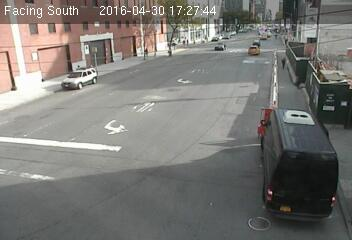neg: (81, 82, 113, 124), (215, 125, 241, 160), (247, 98, 271, 130), (167, 63, 188, 90), (286, 121, 304, 145), (252, 210, 269, 232), (31, 130, 45, 149), (239, 37, 251, 52)
pos: (279, 56, 291, 71)
